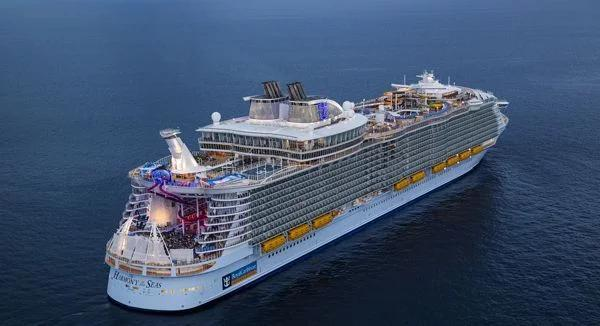youlun: (103, 60, 512, 314)
